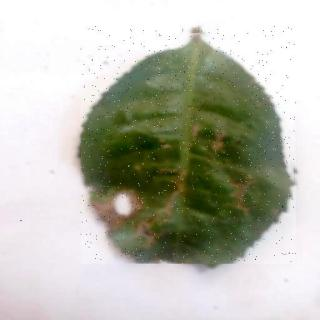Brown Blight: (82, 28, 297, 265)
